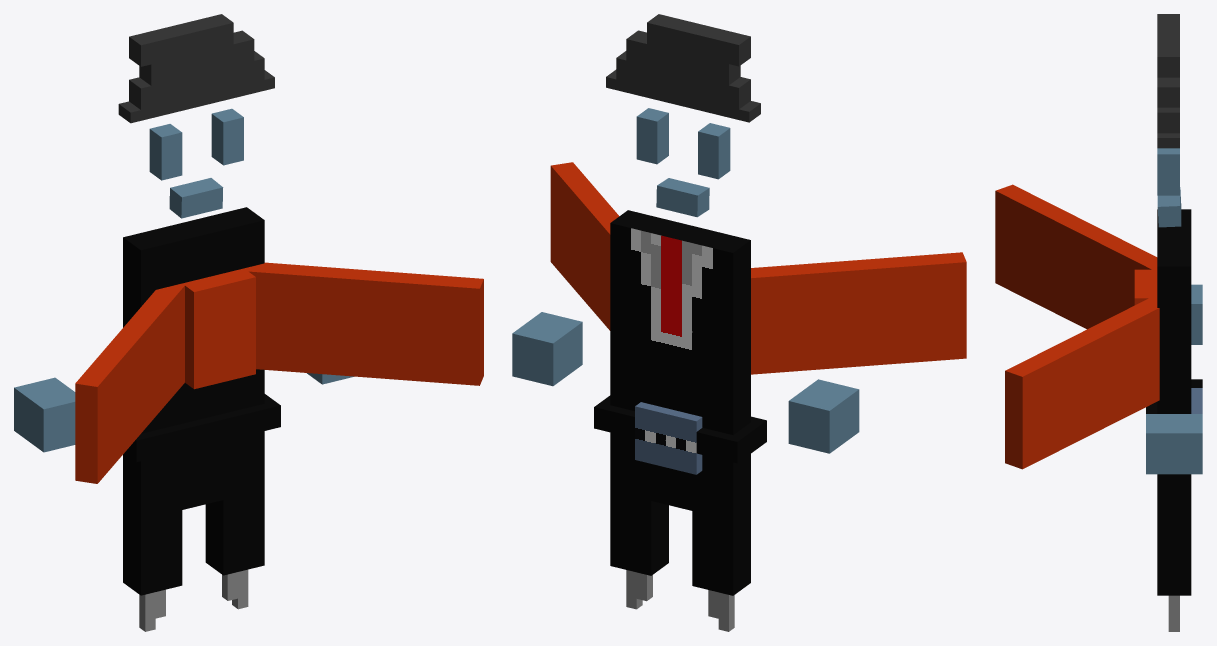
The model's file is default_Mr.Assassin.obj.
3 renders of one model, left to right at view 1: azimuth 30°, elevation 25°; view 2: azimuth 150°, elevation 25°; view 3: azimuth 270°, elevation 25°, orthographic. The views are drawn at different scales.
Visible parts, largest first — view 1: cube; view 2: cube; view 3: cube.
Part boxes in pixels (x1,y1,x2,y2): cube: [14, 14, 483, 631]; cube: [512, 14, 966, 631]; cube: [995, 14, 1202, 631].
Size of the model in its own units: 2.51 by 3.44 by 1.14.
2 materials, 2 textured.
